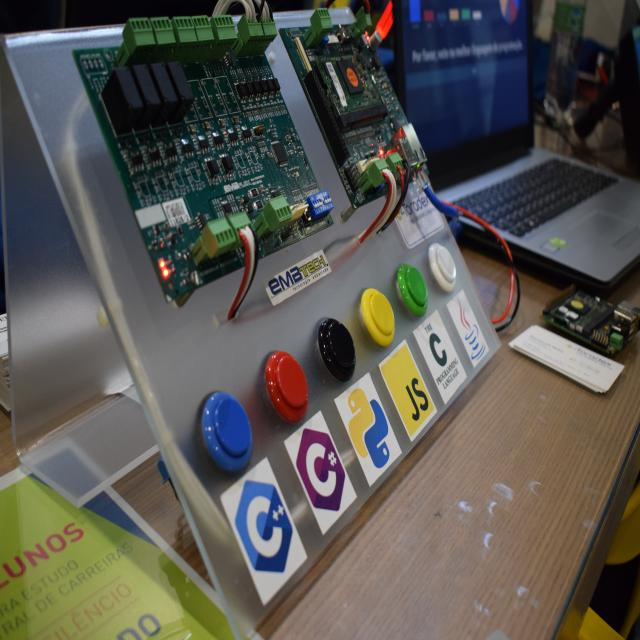som: (315, 58, 390, 115)
